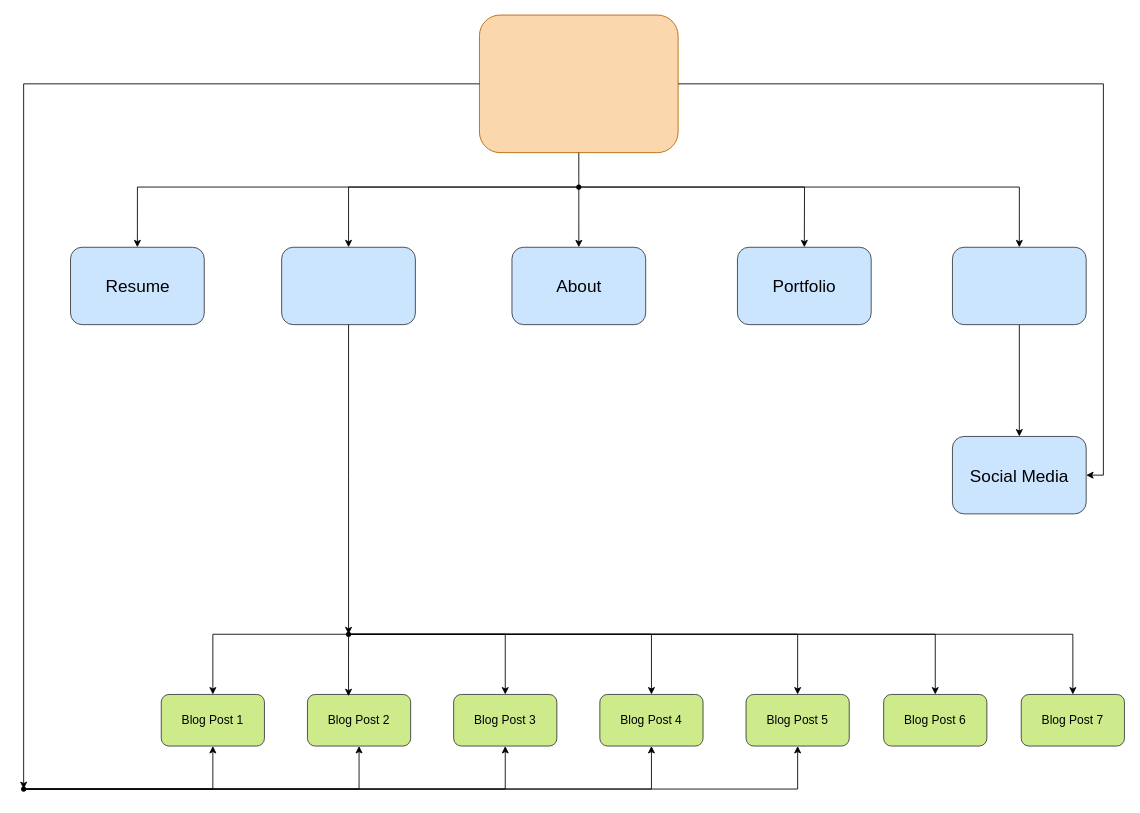
This 1140x813 diagram has some shape labels left out. The centre of each missing label's shape, as x and y in pixels:
Contact Page: the point at 1019,285
Full Blog: the point at 348,285
Home Page: the point at 578,83
